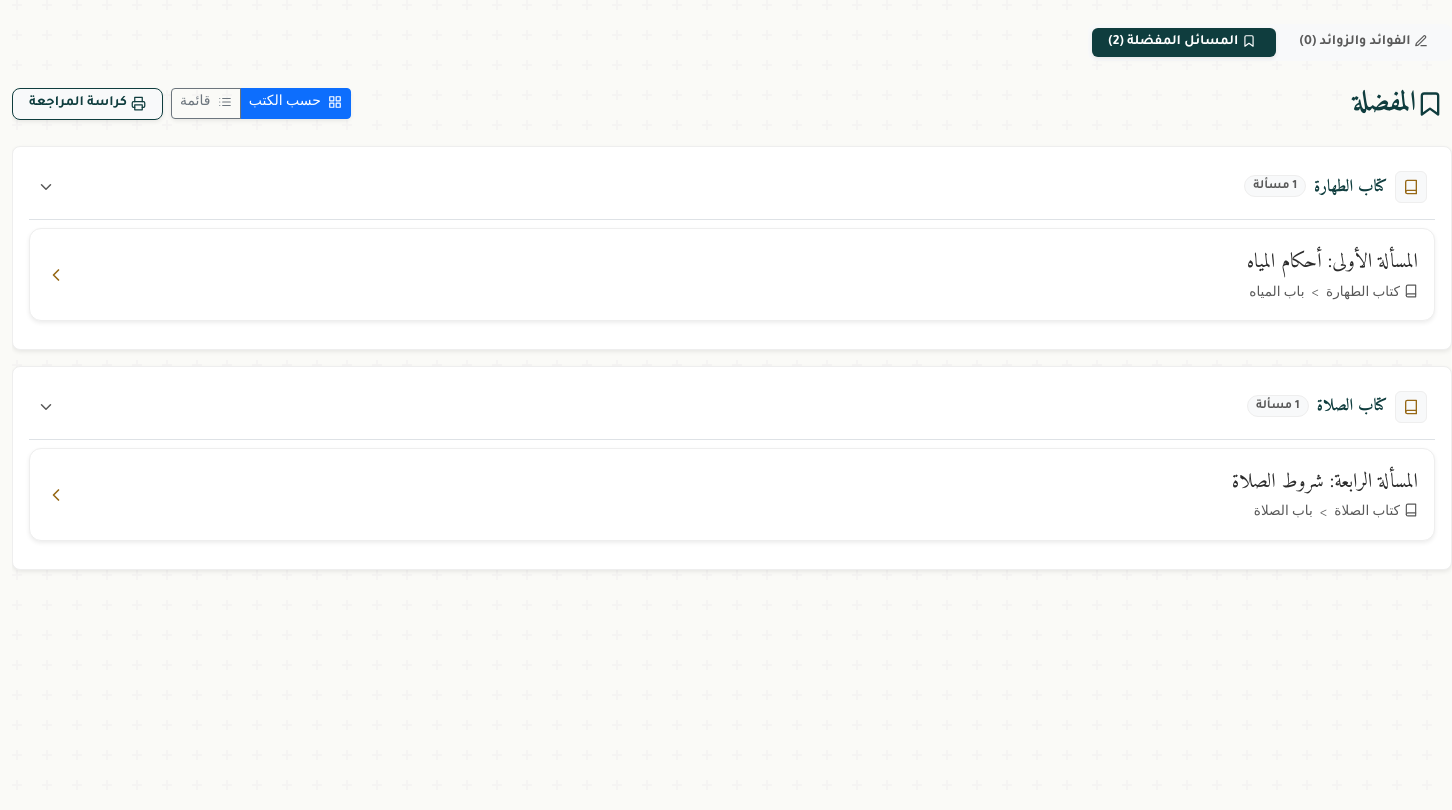
it: BookmarksView Component › يعرض تصنيف المسائل تحت بطاقة الكتاب القابلة للطي
expect the text "كتاب الطهارة" is shown: met, box [1314,175,1387,200]
expect the text "كتاب الصلاة" is shown: met, box [1317,394,1387,420]
# طي قسم كتاب الصلاة
Step 1. Click the button with aria-label "قسم كتاب الصلاة" → [1411, 407], box [29,383,1435,431]
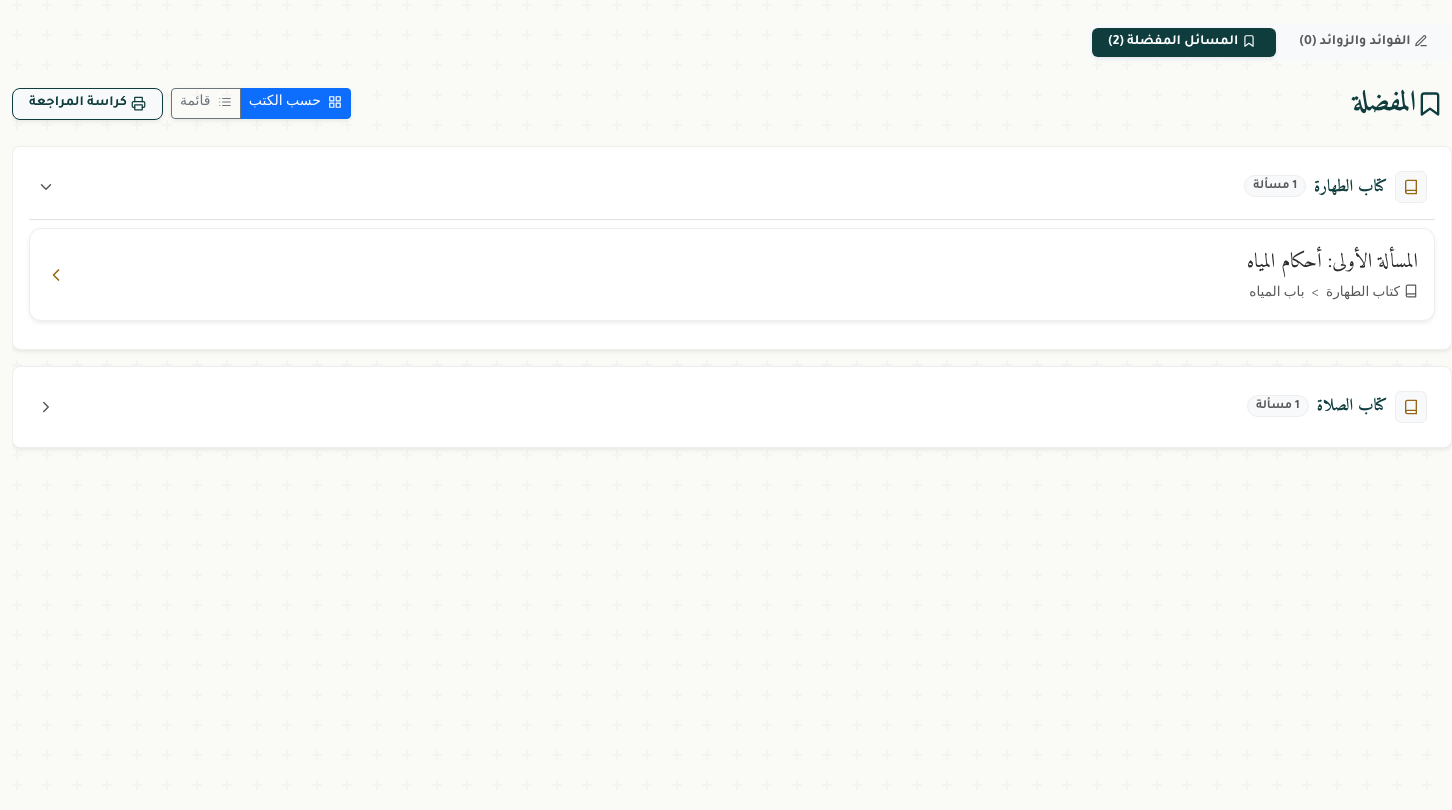
expect the button "المسألة الرابعة: شروط الصلاة" is gone: met
# إعادة الفتح
Step 2. Click the button with aria-label "قسم كتاب الصلاة" → [1411, 407], box [29,383,1435,431]
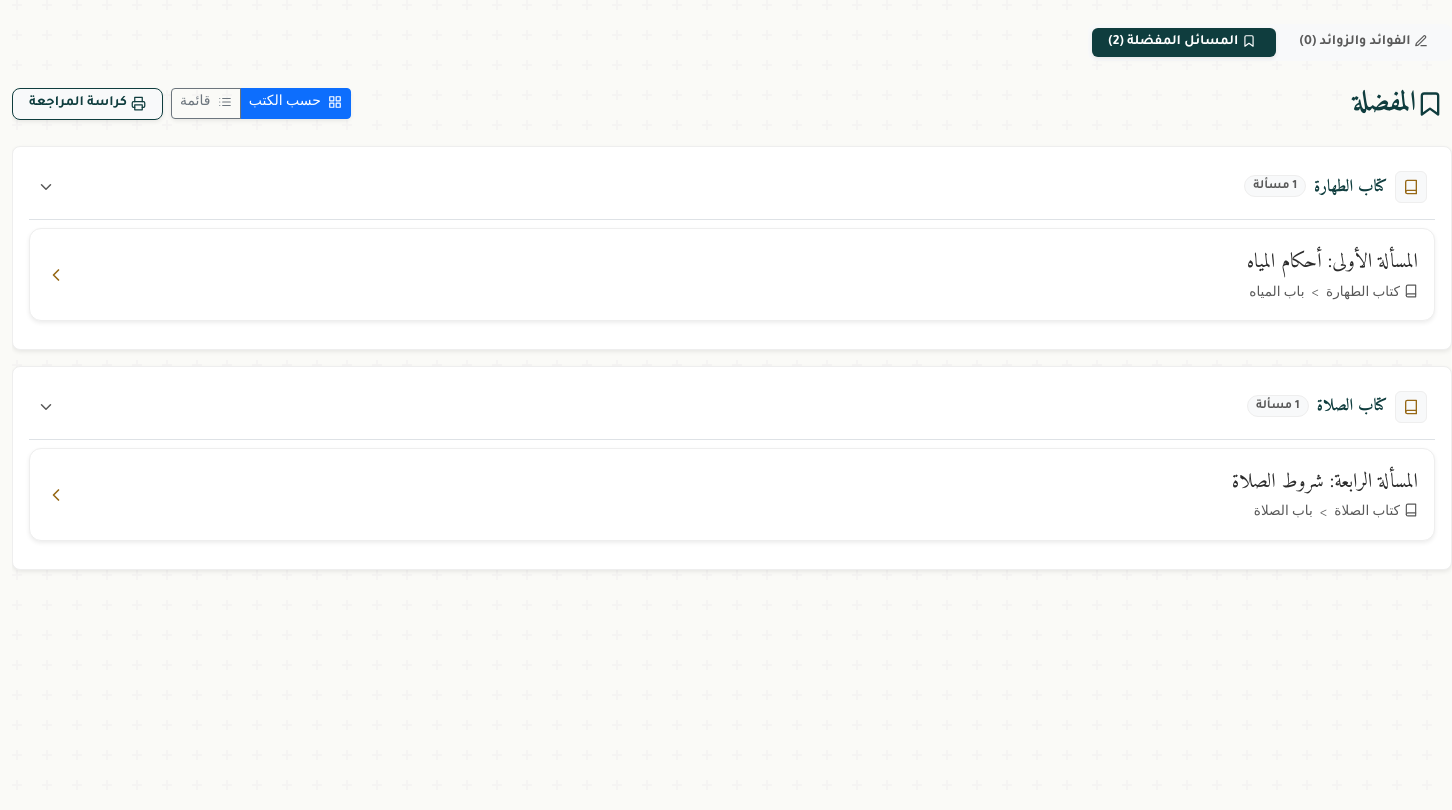
expect the text "المسألة الرابعة: شروط الصلاة" is shown: met, box [1232,465,1418,500]
